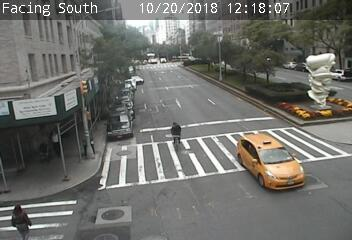car: (237, 134, 304, 190)
